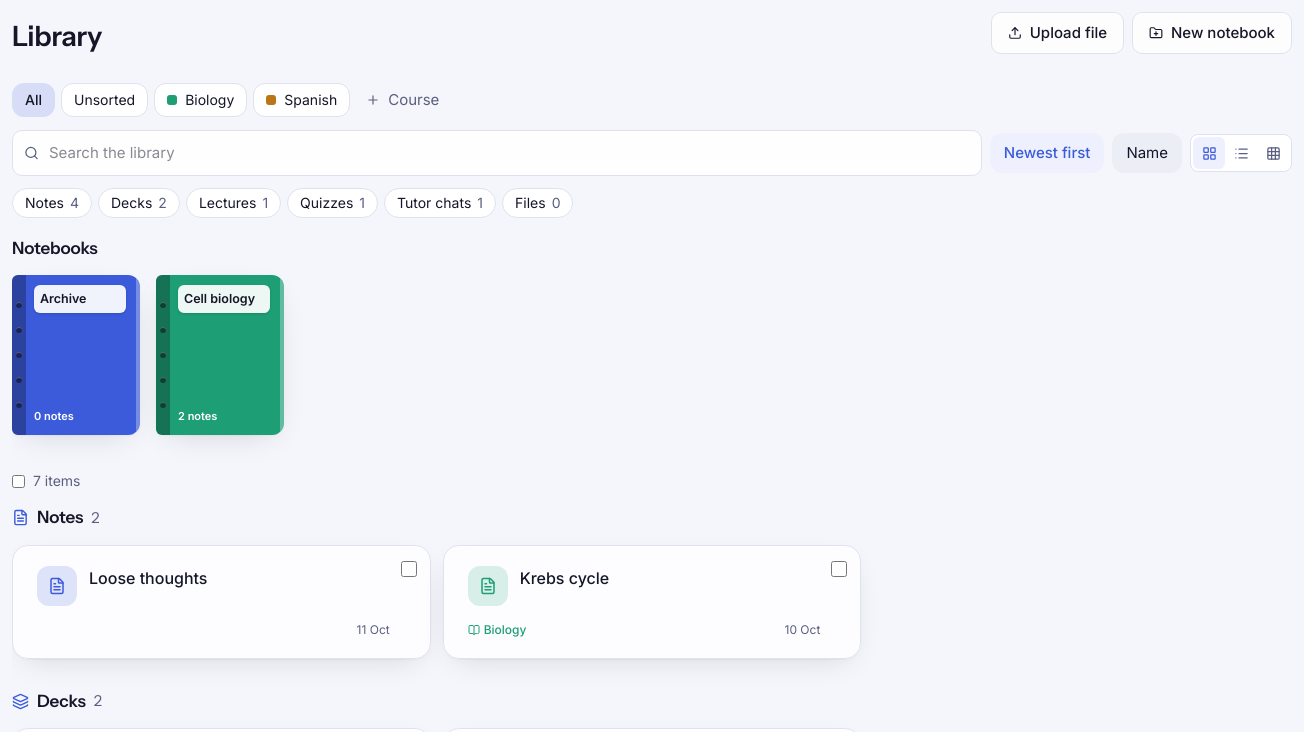
Test: Library › notebooks are folders › finds notes inside folders when searching, and says which notebook each is in
The image size is (1304, 732).
Type "glyco" into the field labelled "Search the library".
click(497, 153); type("glyco")  # box [12, 130, 982, 176]
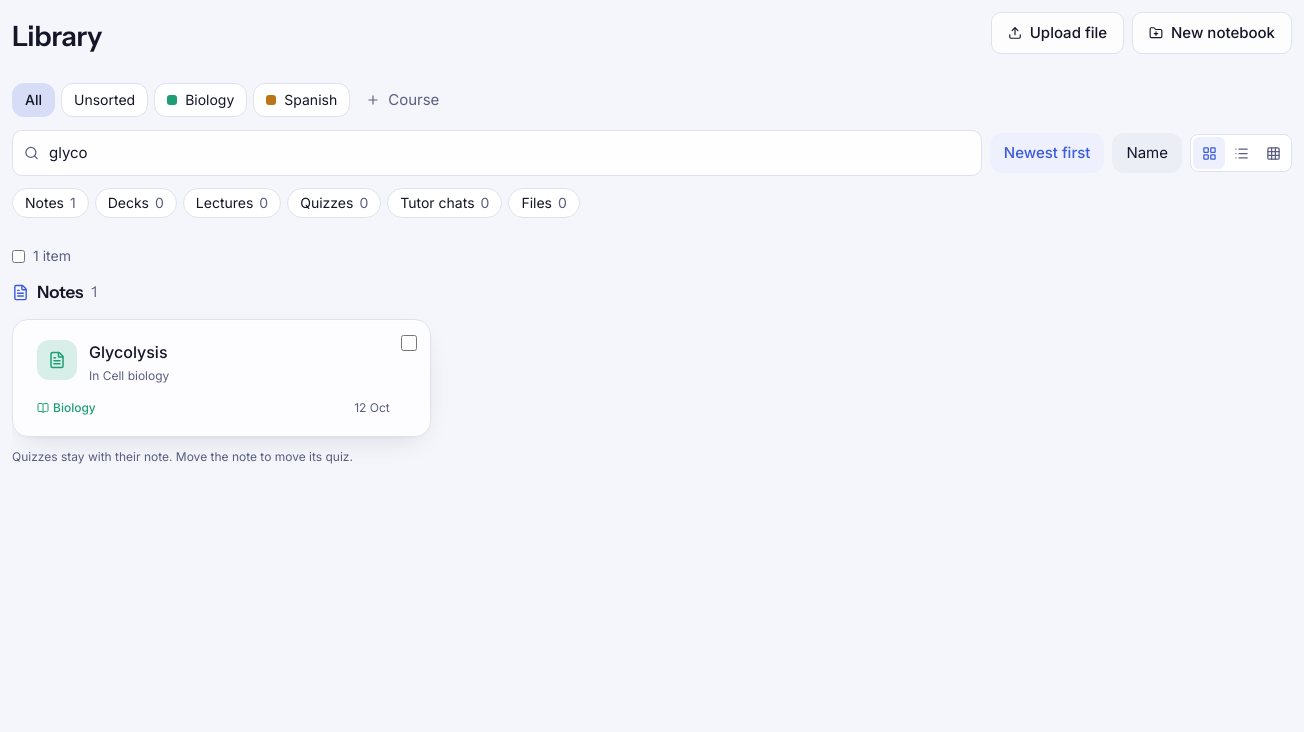
Expected: the heading "Notebooks" is gone
